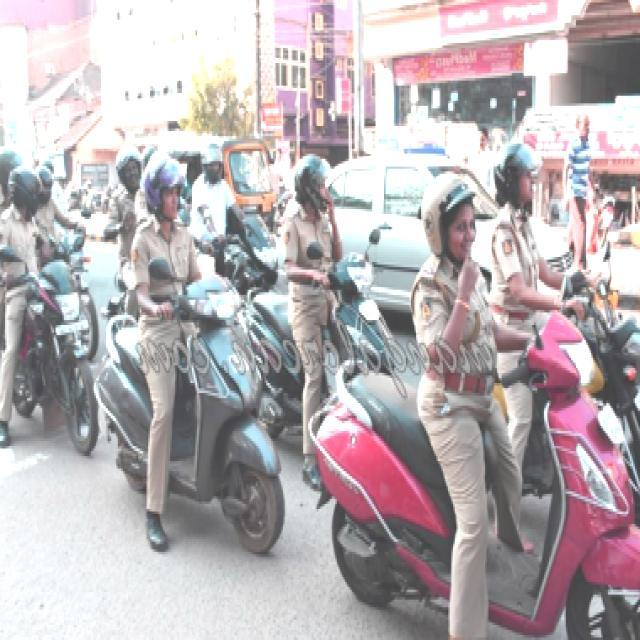Helmet: (416, 164, 484, 272), (490, 134, 542, 222), (138, 143, 187, 224), (290, 141, 337, 222)
